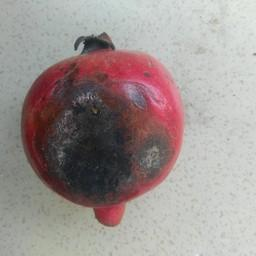Bad_pomegranate: (22, 22, 185, 230)
